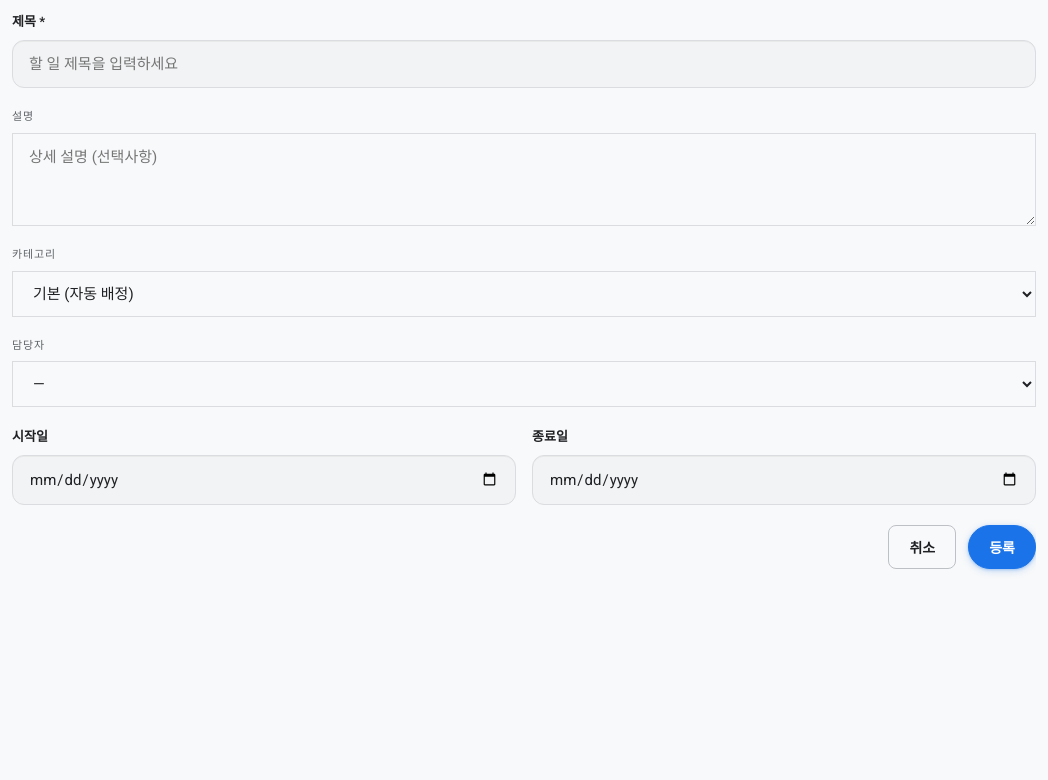
TodoForm › 제목 없이 제출 시 에러 메시지가 표시된다
Click the button "등록" at (1002,547), box [968,525,1036,569]
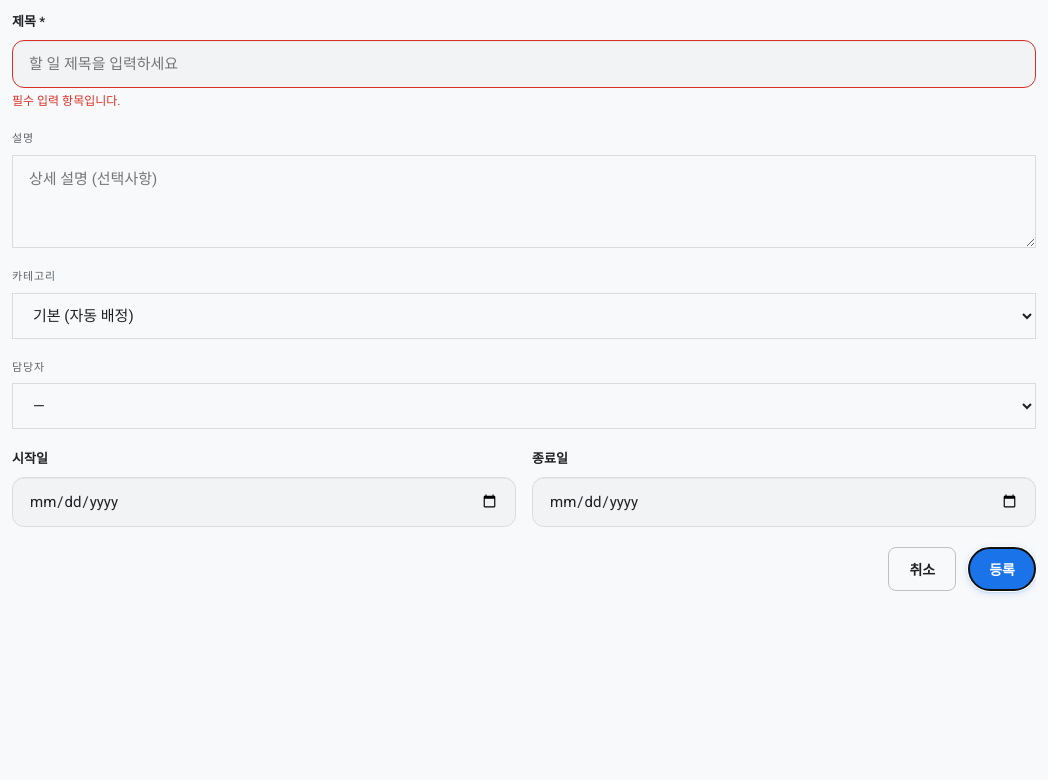
Check: the message reads "필수 입력 항목입니다.", box [12,94,120,108]
